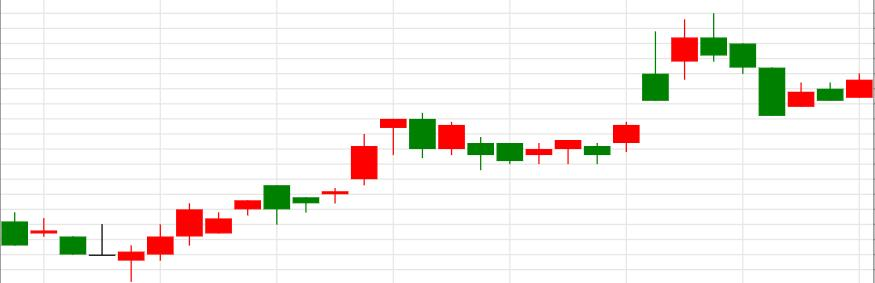bearish_engulfing_fall: (117, 112, 437, 282)
shooting_star_fall: (497, 31, 669, 165)
